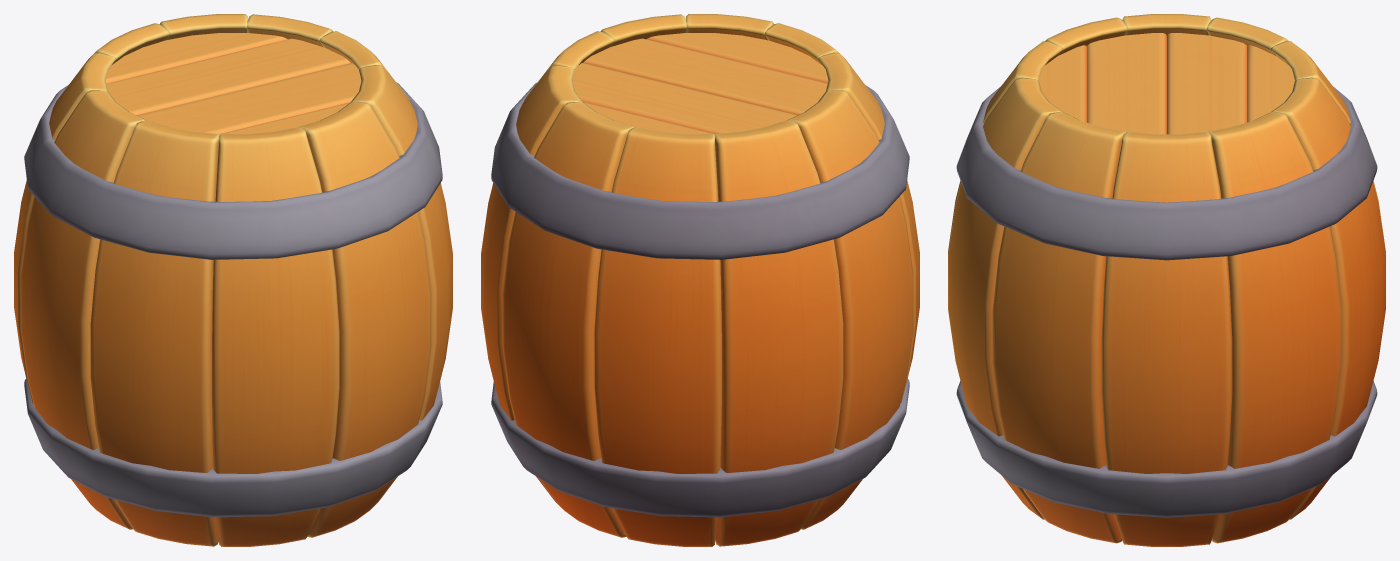
The model's file is barrel.fbx.
3 views of the same model, side by side, from view 1: azimuth 30°, elevation 25°; view 2: azimuth 150°, elevation 25°; view 3: azimuth 270°, elevation 25° (orthographic).
Parts seen in each view (by area): view 1: barrel; view 2: barrel; view 3: barrel.
Part boxes in pixels (box(x1,y1,x2,y2)): barrel: box(14, 14, 452, 546); barrel: box(481, 14, 919, 546); barrel: box(948, 14, 1385, 546).
Bounding box in the file's own units: 51.86 × 53.24 × 51.98.
1 material, 1 textured.
